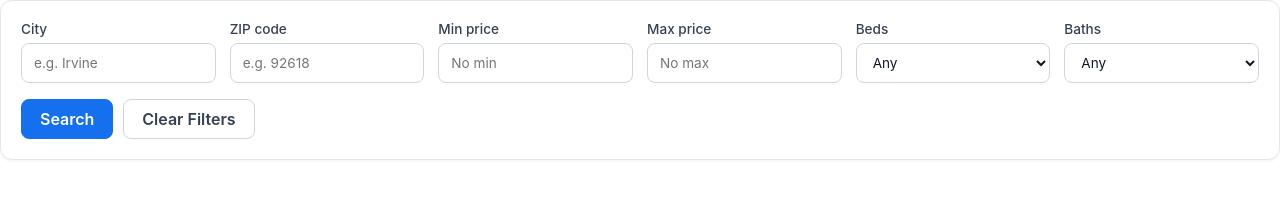
Test case: PropertyFilters › blocks a search where min price is more than max price
Type "900000" into the number field labelled "Min price".
click(536, 63); type("900000")  # box [438, 43, 633, 83]
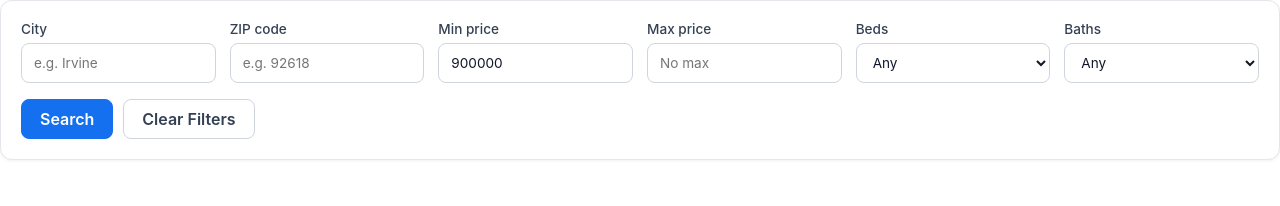
Type "300000" into the number field labelled "Max price".
click(744, 63); type("300000")  # box [647, 43, 842, 83]
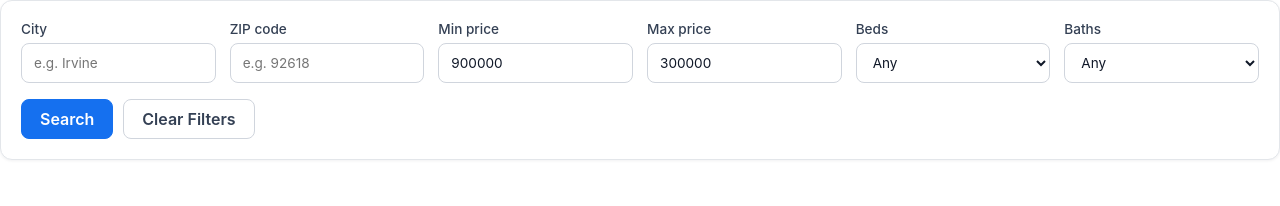
Click the button "Search".
click(67, 119)  # box [21, 99, 113, 139]
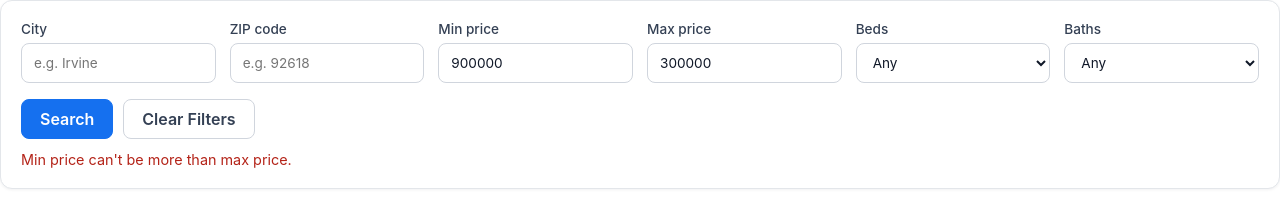
Expected: the message reads "Min price can't be more than max price.", [21, 151, 292, 168]
